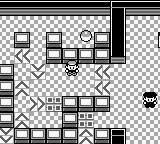main: (65, 60, 79, 75)
no-caminable: (15, 96, 109, 143), (48, 32, 110, 64), (0, 2, 110, 15), (0, 65, 14, 128), (111, 8, 126, 64), (110, 0, 159, 15), (110, 128, 126, 143), (95, 129, 110, 144), (15, 32, 29, 47)
npc: (142, 93, 158, 107)
poke-ball: (80, 31, 92, 41)
salto: (14, 80, 30, 96), (14, 112, 30, 128), (78, 128, 94, 143), (95, 80, 110, 95), (95, 65, 110, 79), (31, 64, 45, 79), (0, 128, 14, 143), (30, 97, 45, 111), (15, 49, 30, 63)
